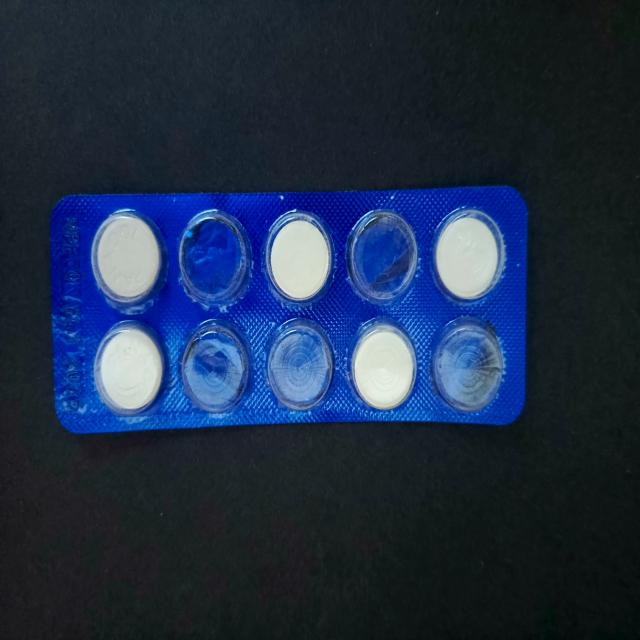defect: (176, 207, 255, 312), (342, 206, 420, 308), (429, 311, 506, 414), (176, 316, 254, 416), (262, 313, 338, 414)
